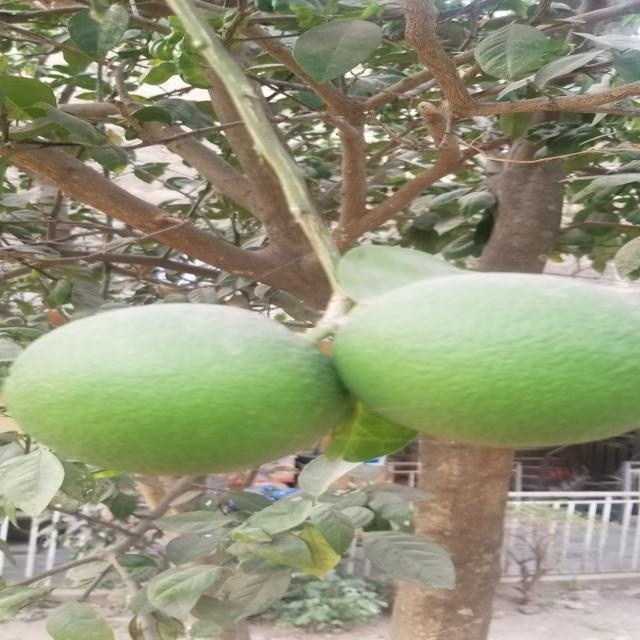agrume: (17, 301, 359, 483), (330, 275, 633, 453)
